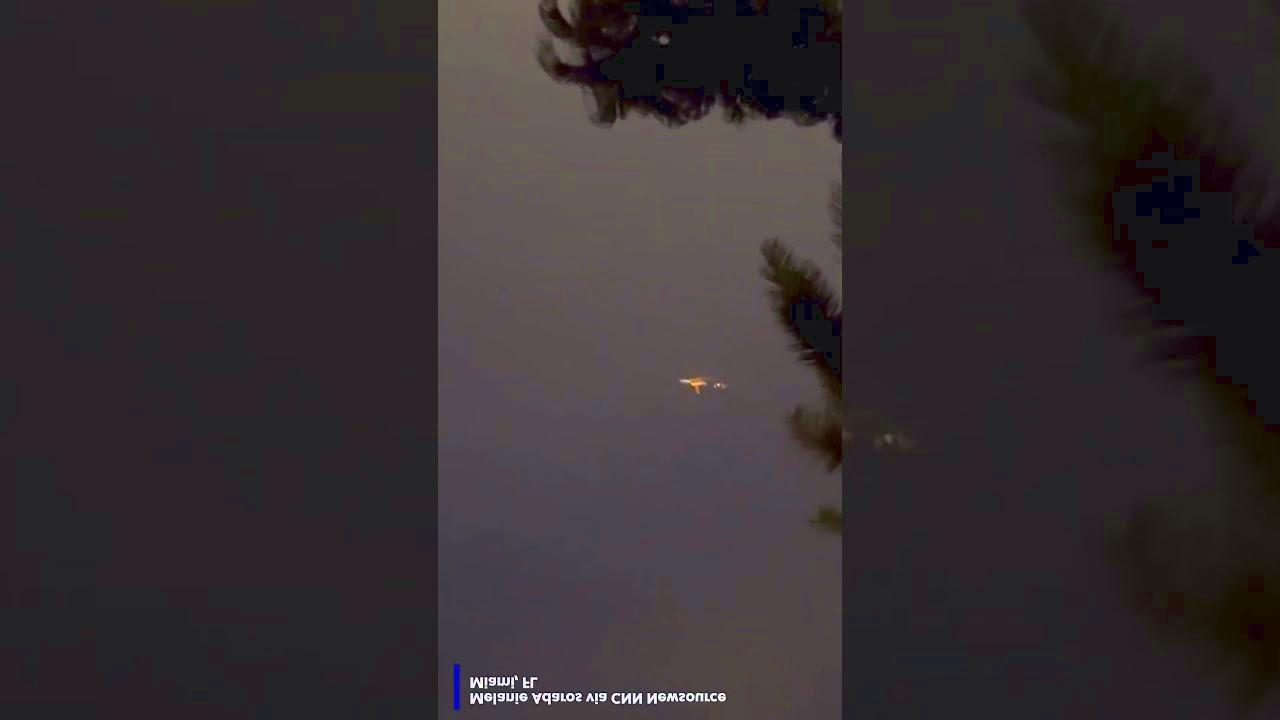Plane: (670, 372, 750, 399)
